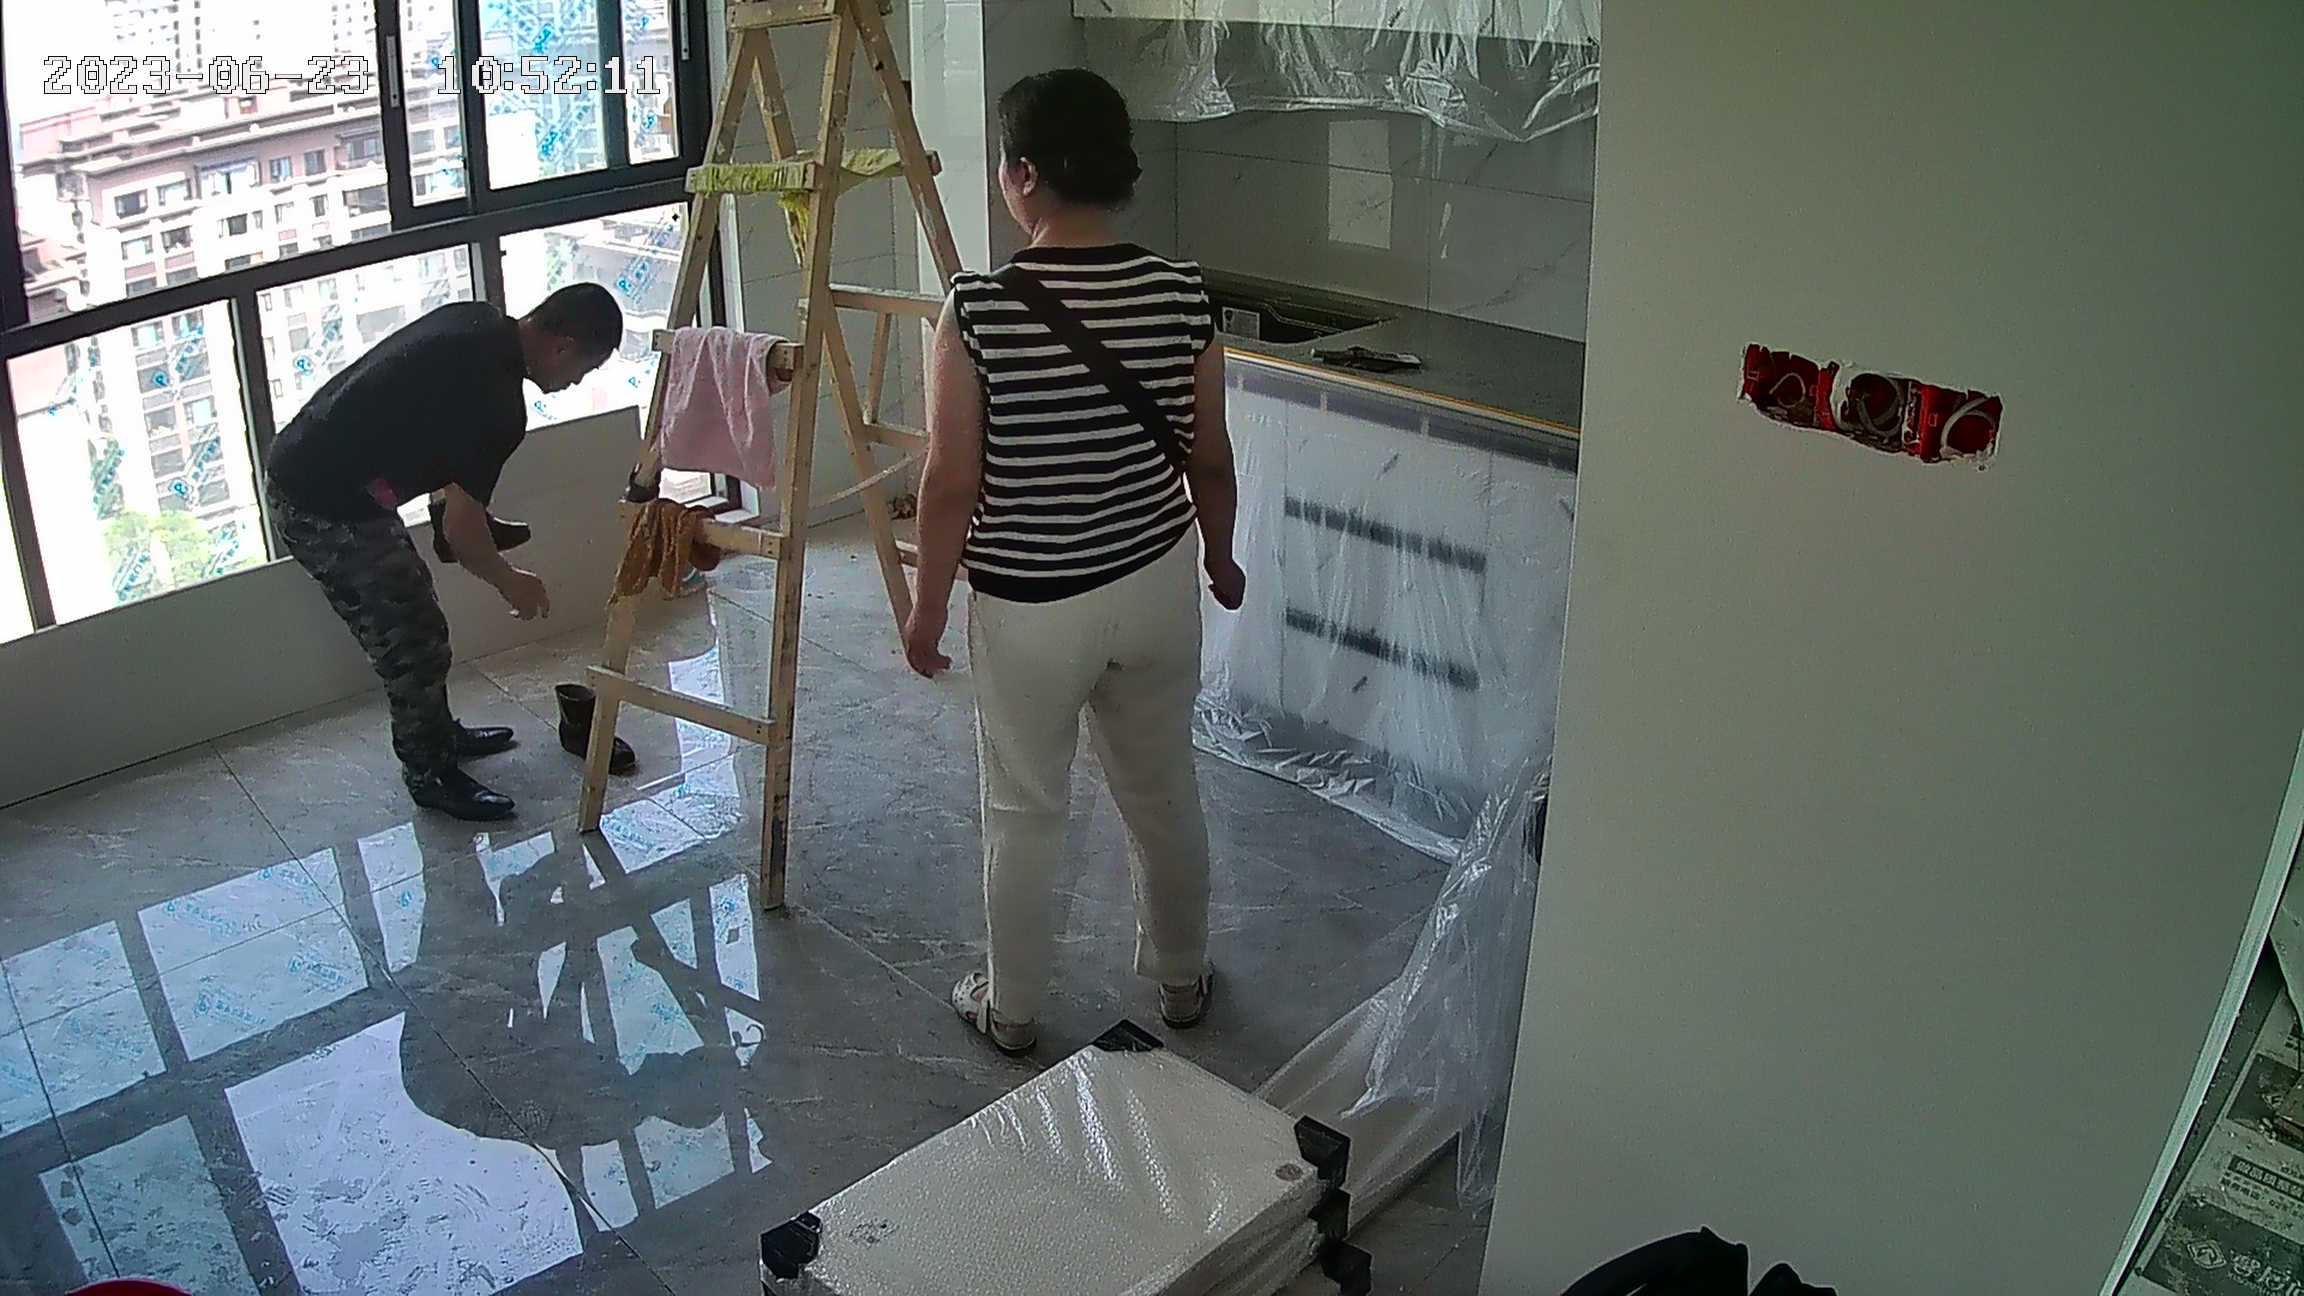people: (904, 65, 1249, 1039), (255, 281, 633, 827)
window: (1, 5, 695, 641)
